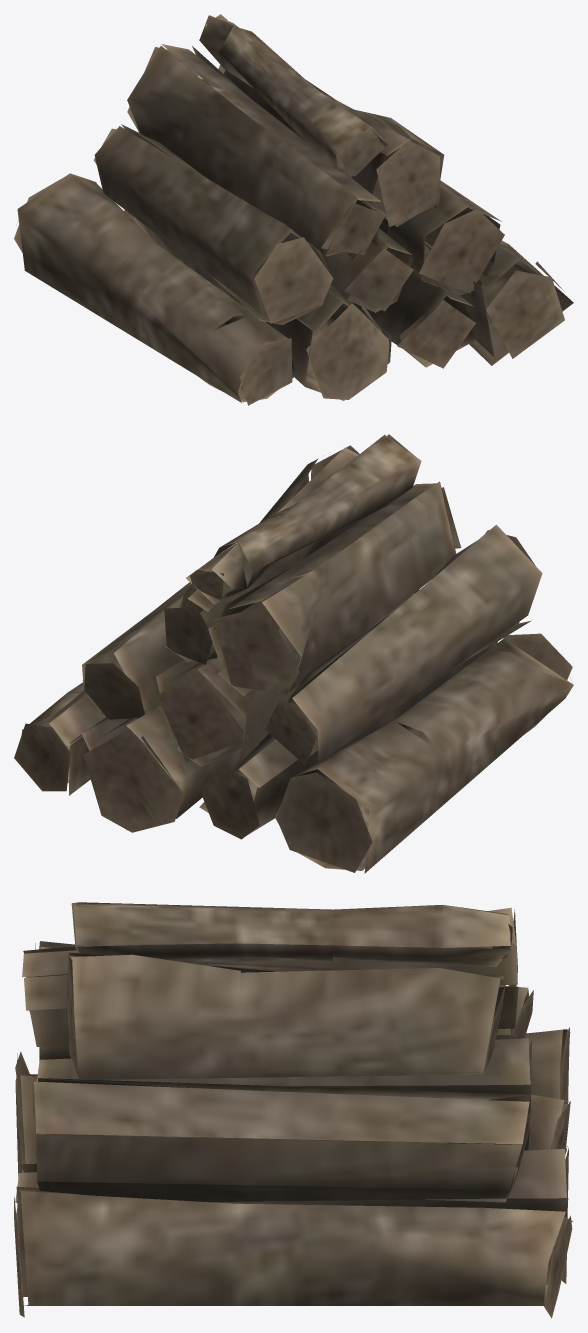
Rendered from vc_wood.glb.
3 renders of one model, top to bottom at view 1: azimuth 30°, elevation 25°; view 2: azimuth 150°, elevation 25°; view 3: azimuth 270°, elevation 25°, orthographic. The views are drawn at different scales.
Parts seen in each view (by area): view 1: defaultMaterial; view 2: defaultMaterial; view 3: defaultMaterial.
Part boxes in pixels (box(x1,y1,x2,y2)): defaultMaterial: box(14, 14, 573, 405); defaultMaterial: box(14, 434, 573, 873); defaultMaterial: box(14, 902, 573, 1318).
Bounding box in the file's own units: 1.53 × 1.04 × 1.55.
1 material, 1 textured.
